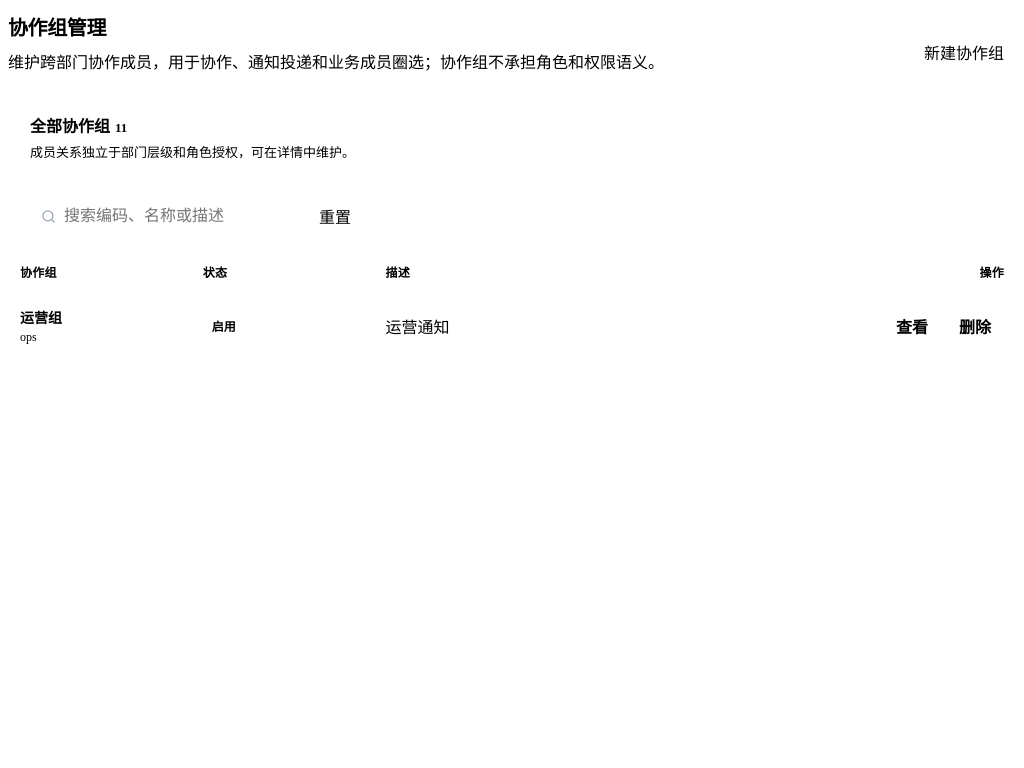
UserGroupsView › 删除协作组应经确认框并展示成功提示
The width and height of the screenshot is (1024, 768).
Click the button with class "danger": (975, 326) 946,305 -> 1004,347
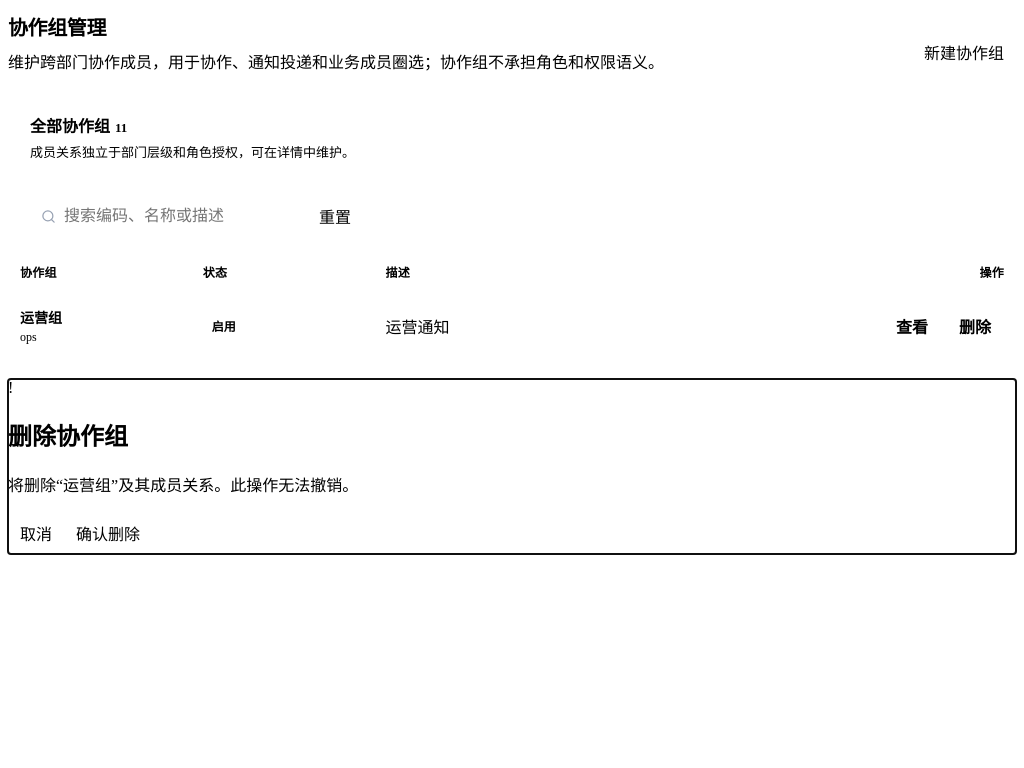
Expected: the button "确认删除" is shown
Click the button "确认删除": (108, 533) 64,512 -> 152,554
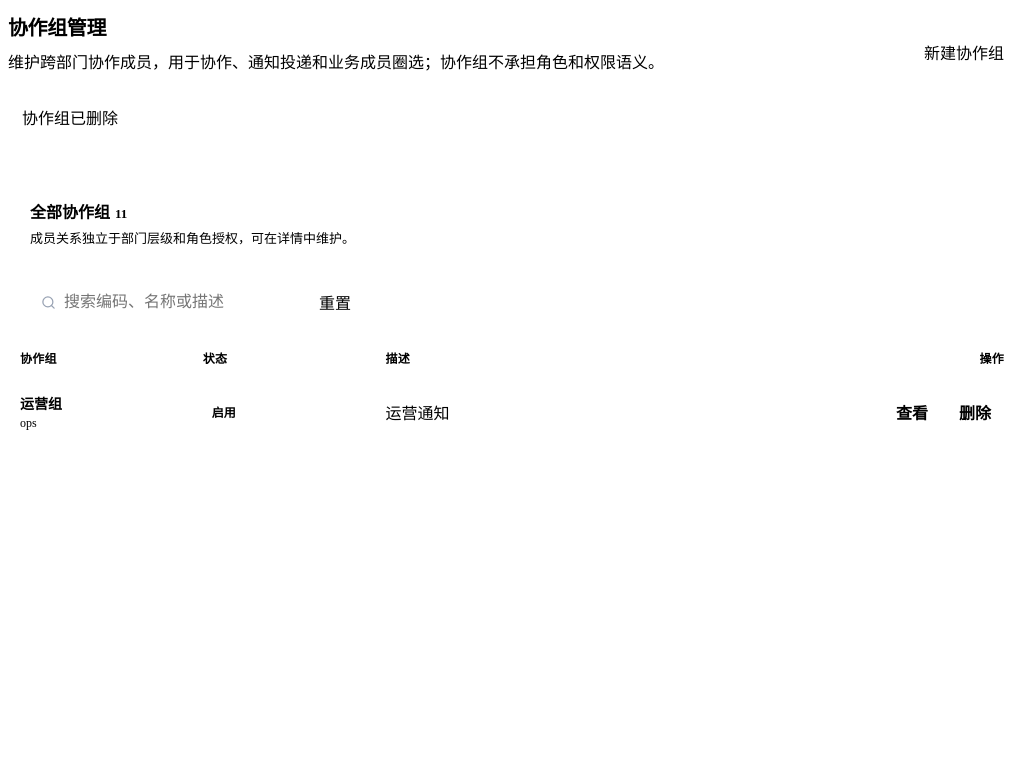
Expected: the text "协作组已删除" is shown, 22,110 -> 118,127
